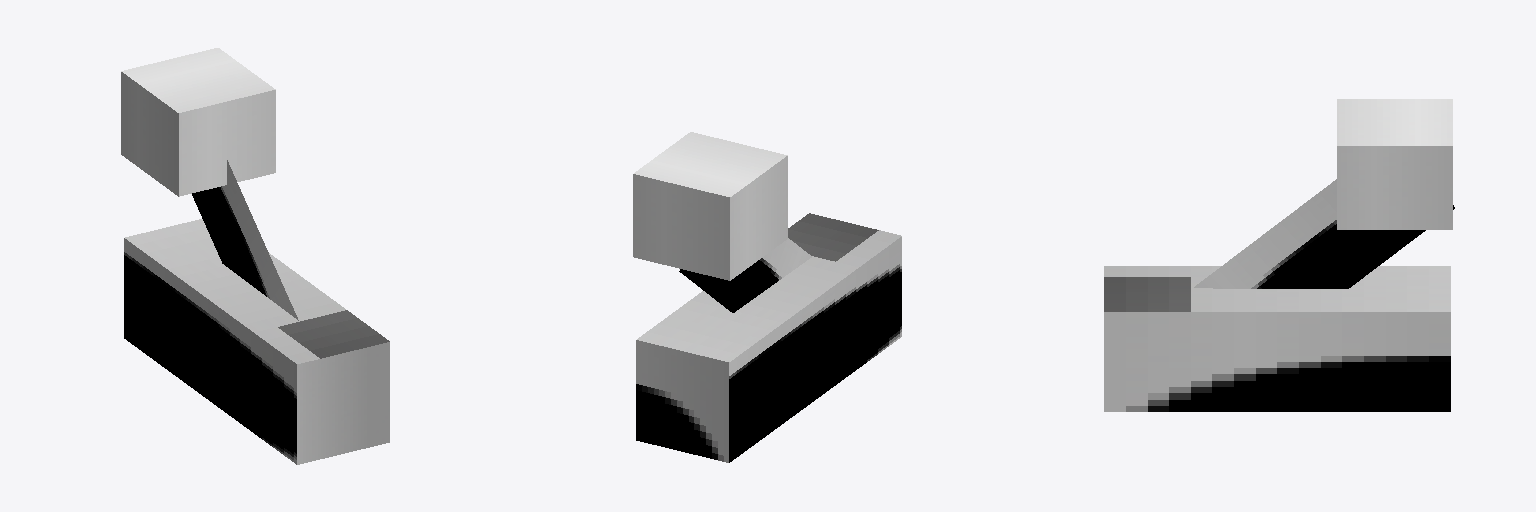
3 renders of one model, left to right at view 1: azimuth 30°, elevation 25°; view 2: azimuth 150°, elevation 25°; view 3: azimuth 270°, elevation 25°, orthographic.
Parts seen in each view (by area): view 1: Cube, Cube.001, Plane; view 2: Cube, Cube.001, Plane; view 3: Cube, Cube.001, Plane.
Boxes of the visible parts, x1=… form: Cube: x1=124, y1=219, x2=389, y2=464; Cube.001: x1=121, y1=48, x2=275, y2=196; Plane: x1=192, y1=160, x2=298, y2=320; Cube: x1=636, y1=213, x2=901, y2=462; Cube.001: x1=633, y1=132, x2=787, y2=280; Plane: x1=679, y1=238, x2=811, y2=312; Cube: x1=1104, y1=266, x2=1450, y2=411; Cube.001: x1=1337, y1=99, x2=1452, y2=229; Plane: x1=1194, y1=179, x2=1454, y2=288.
Size of the model in its own units: 0.2818 by 0.7393 by 0.8822.
1 materials, 1 textured.